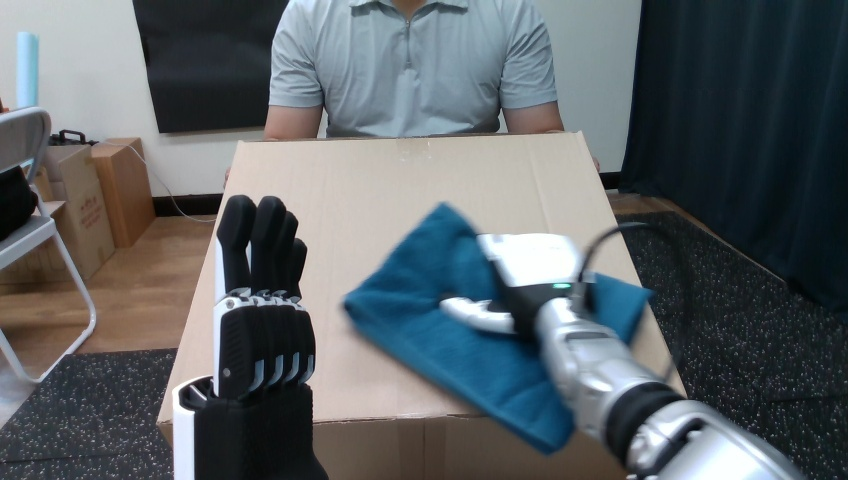left robot hand: (440, 226, 801, 478), (172, 195, 326, 479)
